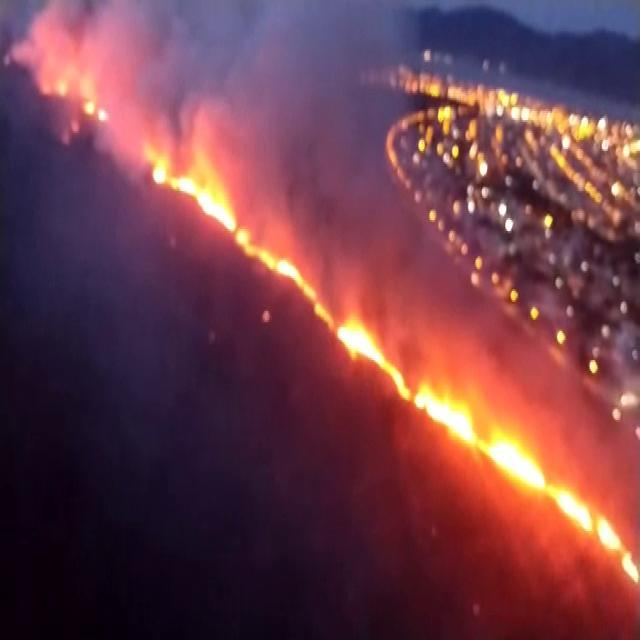Fire: (184, 177, 250, 228), (489, 425, 541, 486), (412, 385, 478, 430), (345, 320, 402, 370), (549, 488, 595, 528)
